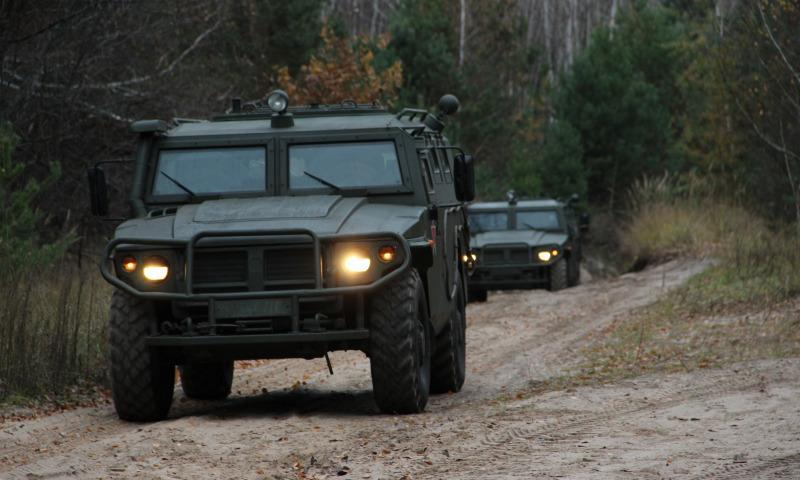armored_car: (86, 89, 477, 425), (466, 189, 591, 304)
